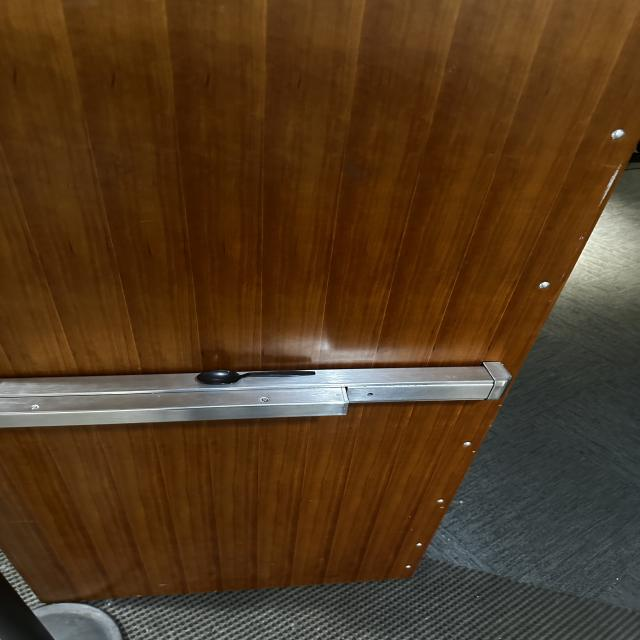spoon: (169, 344, 333, 401)
